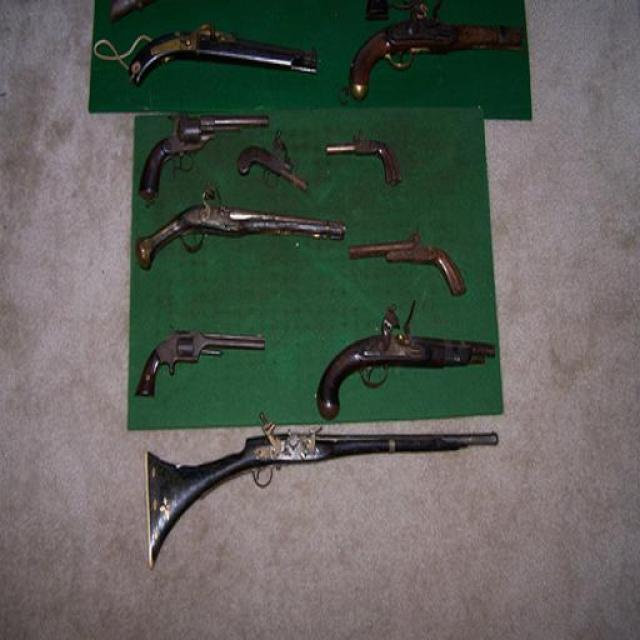pistol: (313, 305, 504, 415), (129, 105, 269, 205), (131, 320, 262, 391), (347, 230, 466, 307), (323, 130, 401, 194), (237, 130, 305, 190)
